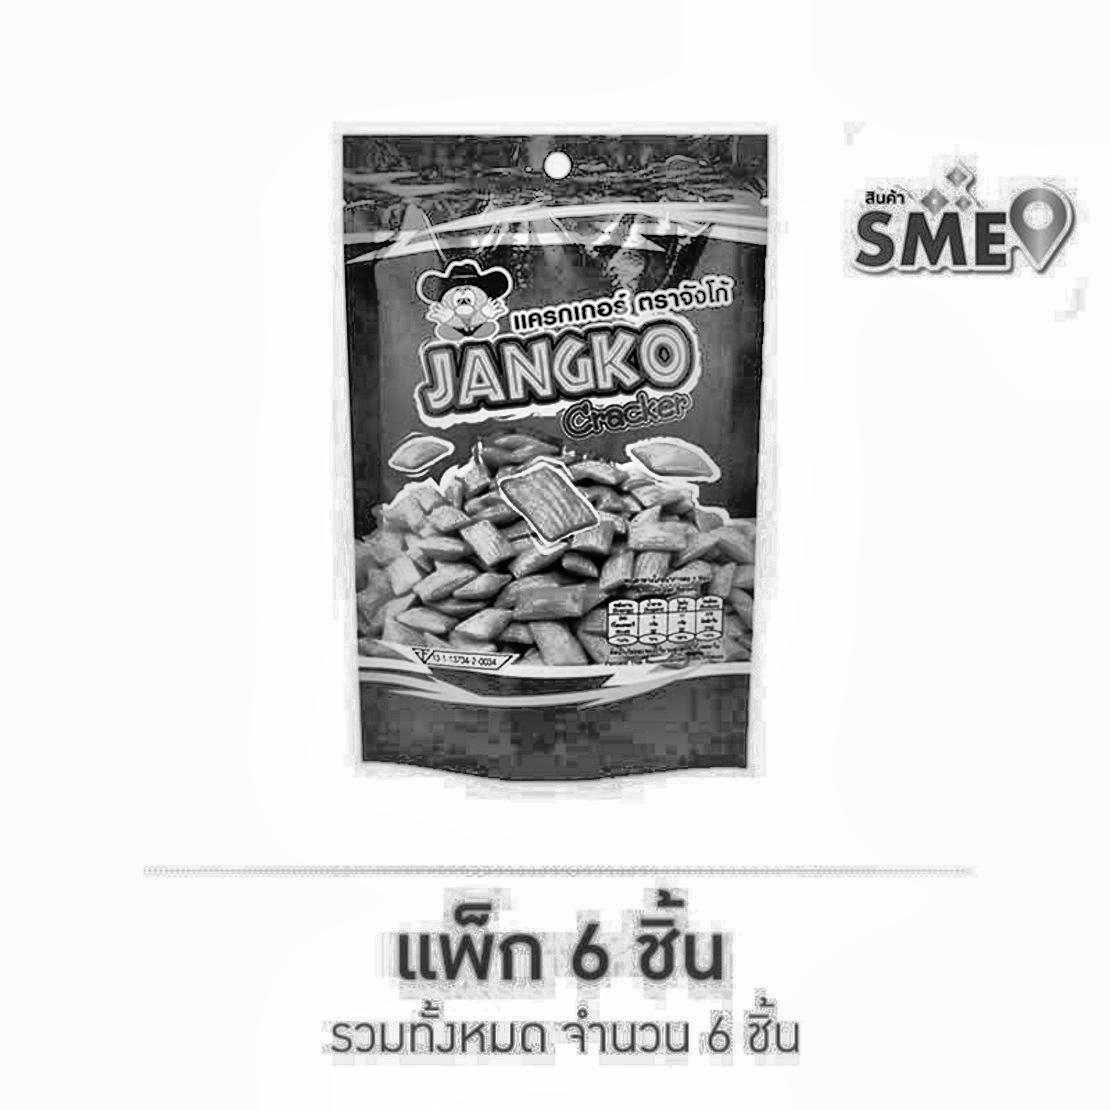snackbag: (191, 63, 852, 843)
